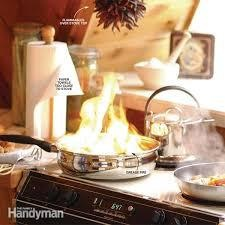fire: (63, 72, 148, 157)
